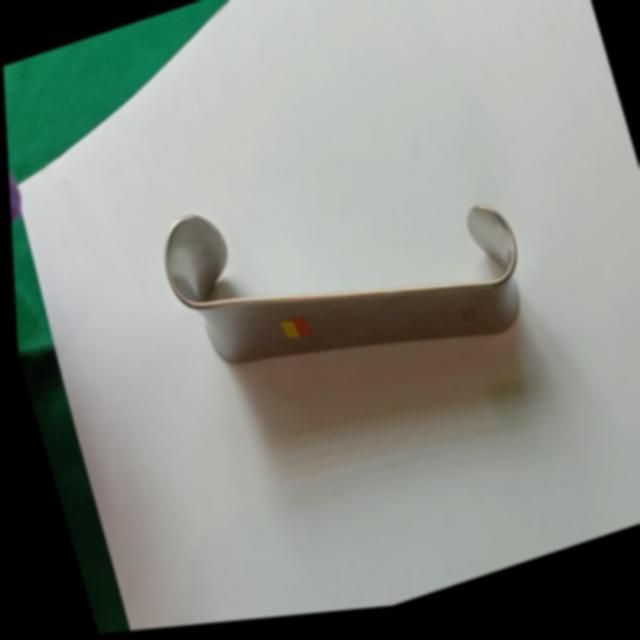CheekRetractor: (143, 122, 539, 439)
